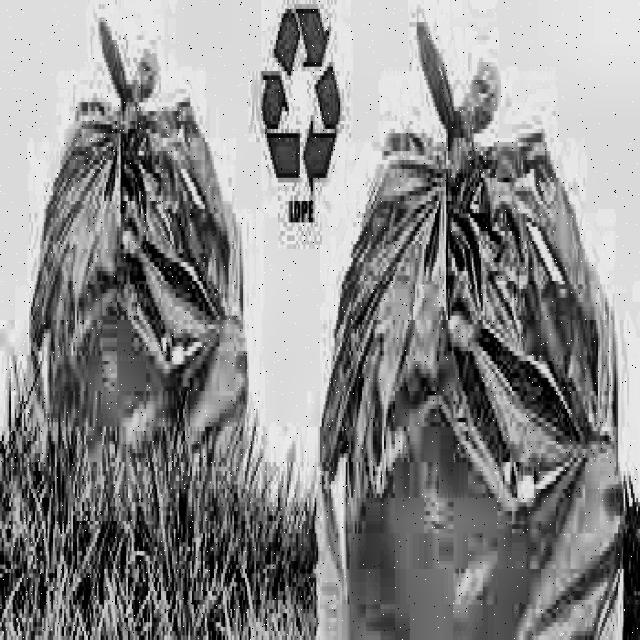Trashbag: (307, 27, 617, 640), (27, 13, 245, 452)
